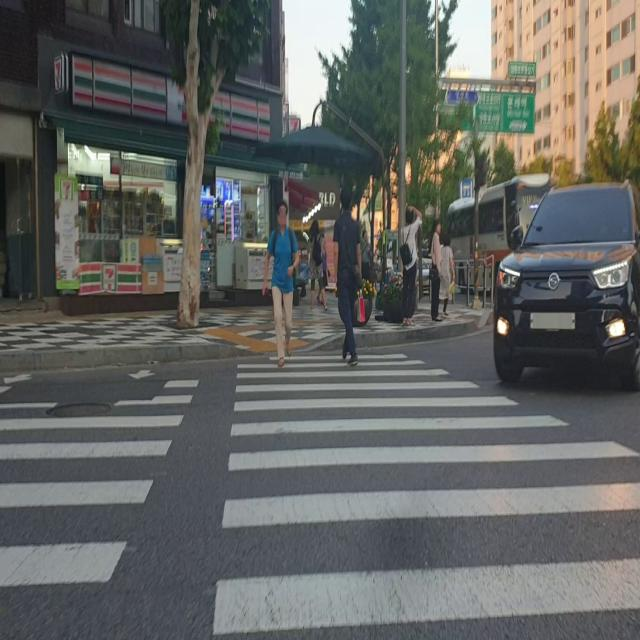횡단보도: (2, 344, 638, 635)
